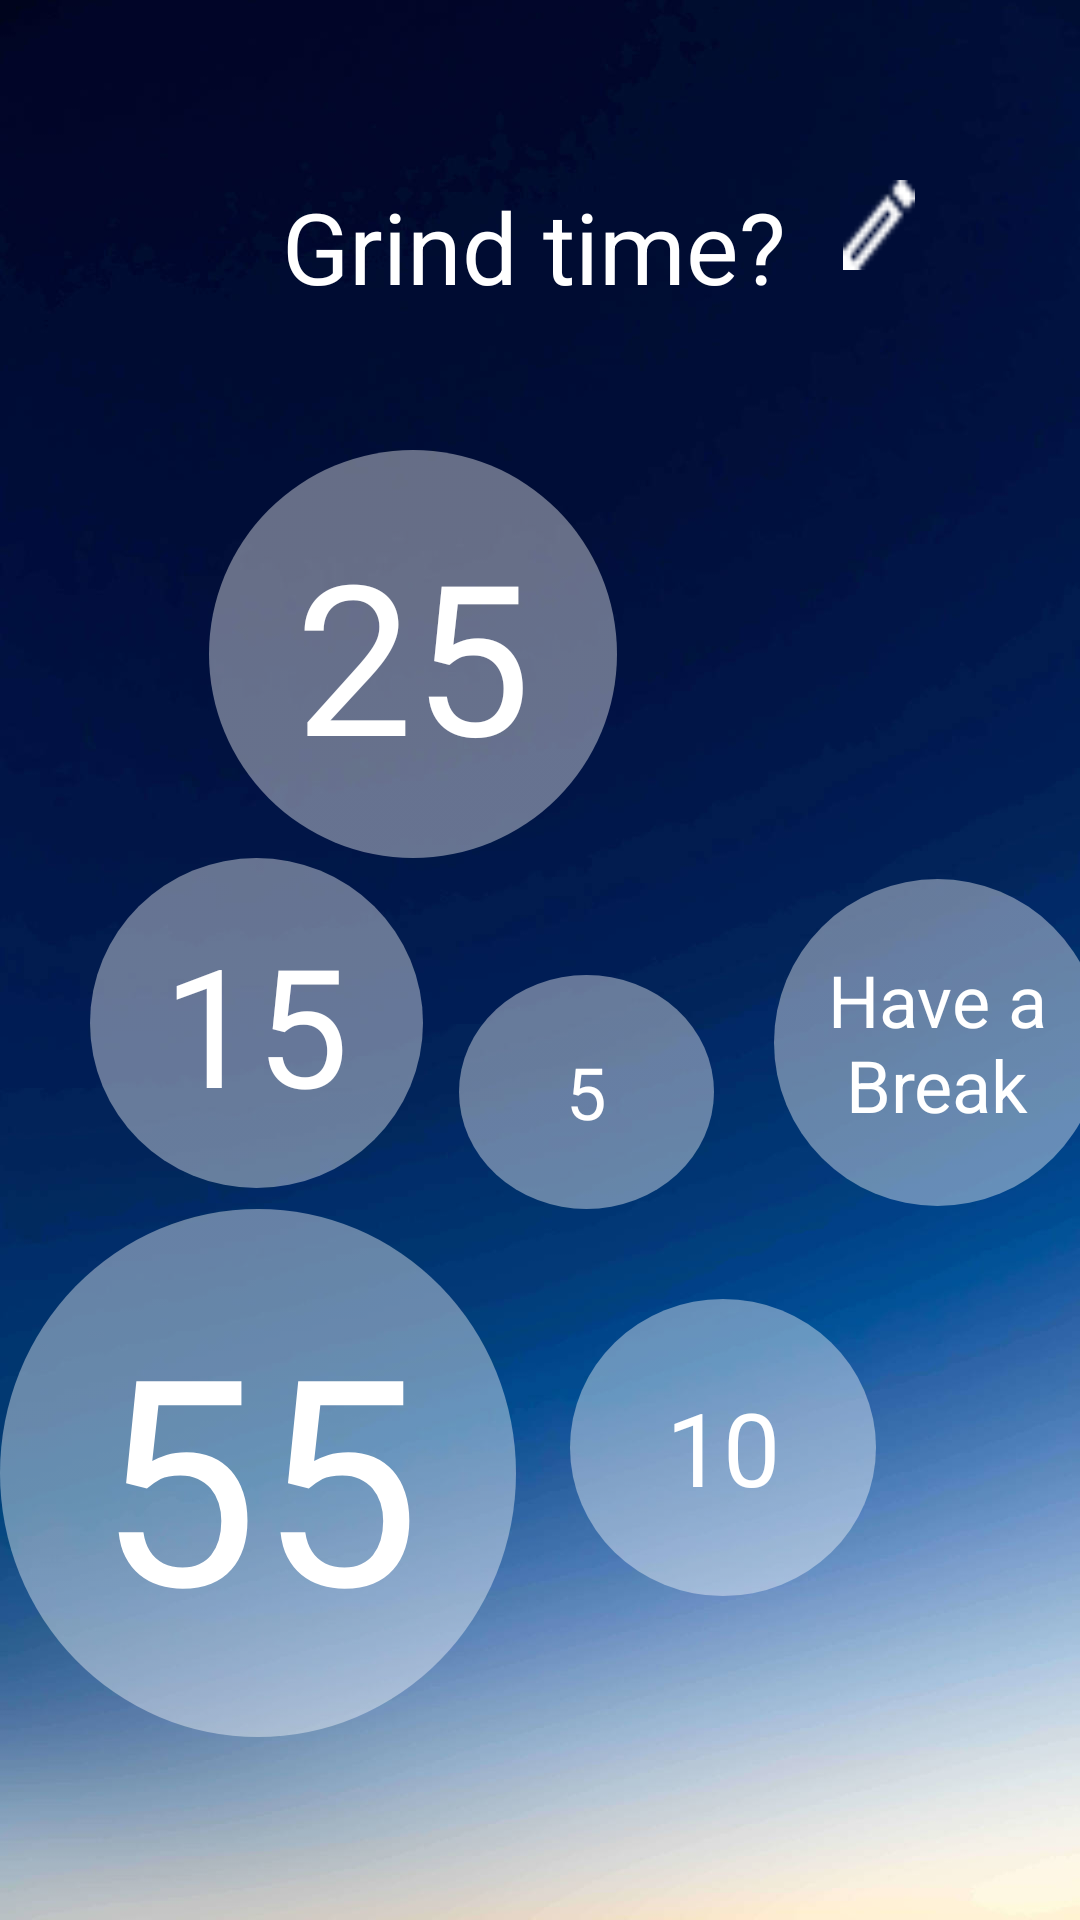

Named icons in this screenshot (1080px x 1920px) and their bounding boxes, (x1, y1, x2, y2):
pencil: (843, 180, 915, 270)
